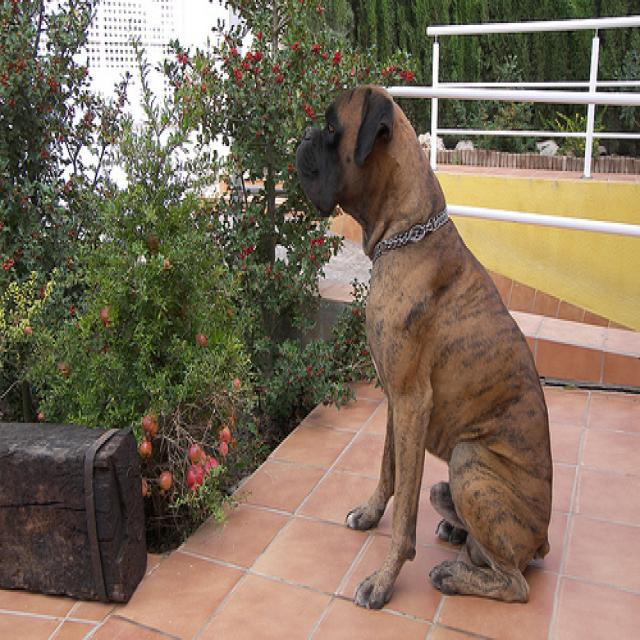dog-boxer: (294, 79, 562, 617)
